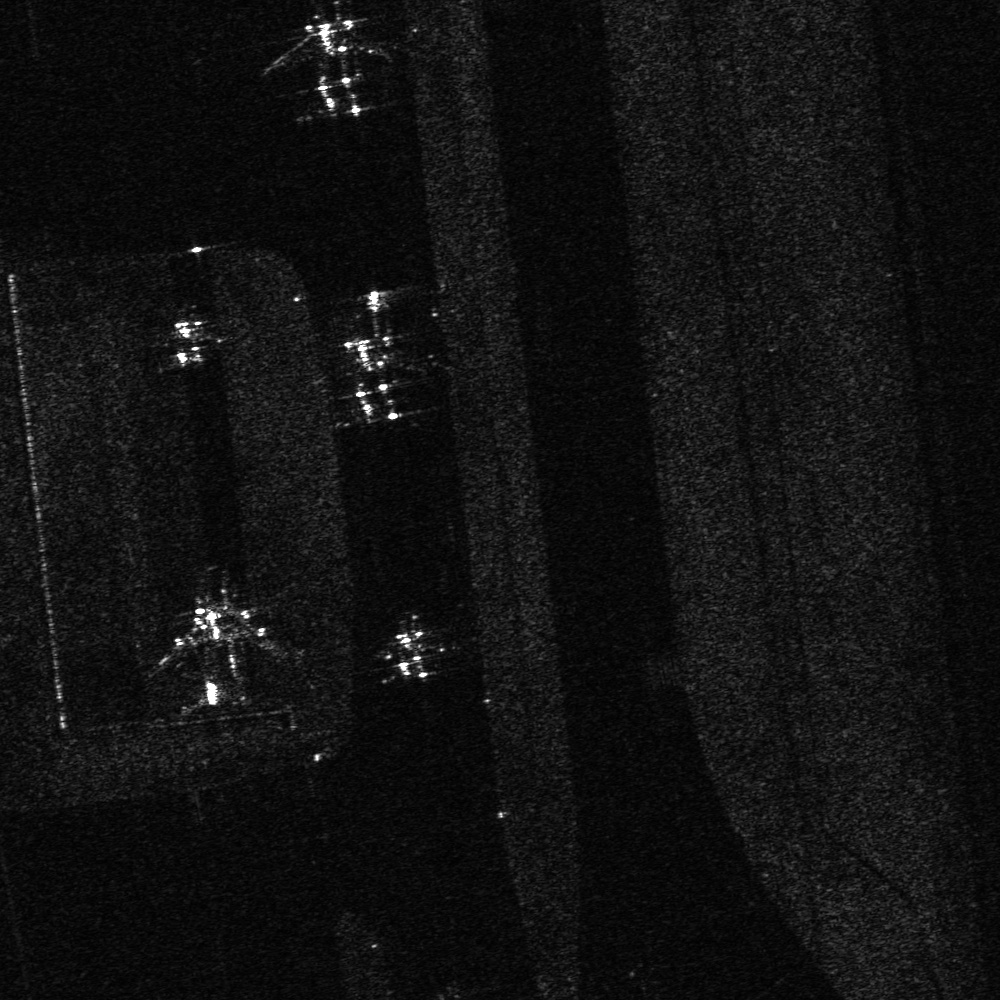A220: (150, 305, 229, 373)
A330: (359, 612, 461, 697)
other: (134, 583, 292, 716), (308, 286, 442, 432), (261, 3, 401, 124)
